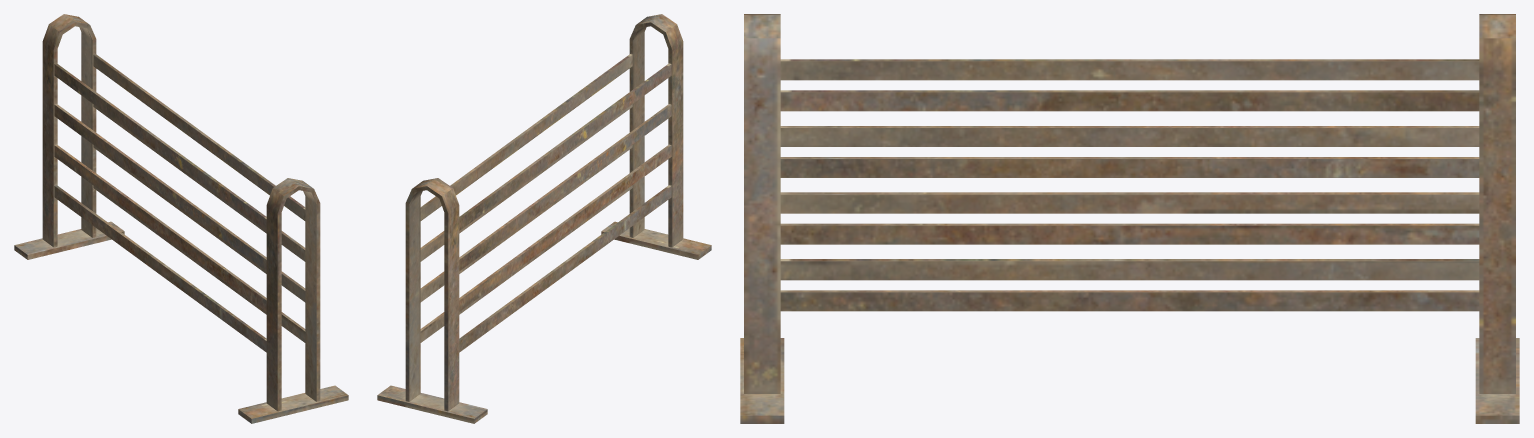
File: fence_2.fbx
The picture shows the model from 3 angles, left to right: view 1: azimuth 30°, elevation 25°; view 2: azimuth 150°, elevation 25°; view 3: azimuth 270°, elevation 25°; orthographic projection. The views are drawn at different scales.
Visible parts, largest first — view 1: var5_1; view 2: var5_1; view 3: var5_1.
Part boxes in pixels (x1,y1,x2,y2): var5_1: (14,14,348,423); var5_1: (377,14,711,423); var5_1: (740,14,1519,423).
Size of the model in its own units: 41.67 by 92.5 by 177.
Materials: 1 (1 with a texture image).
